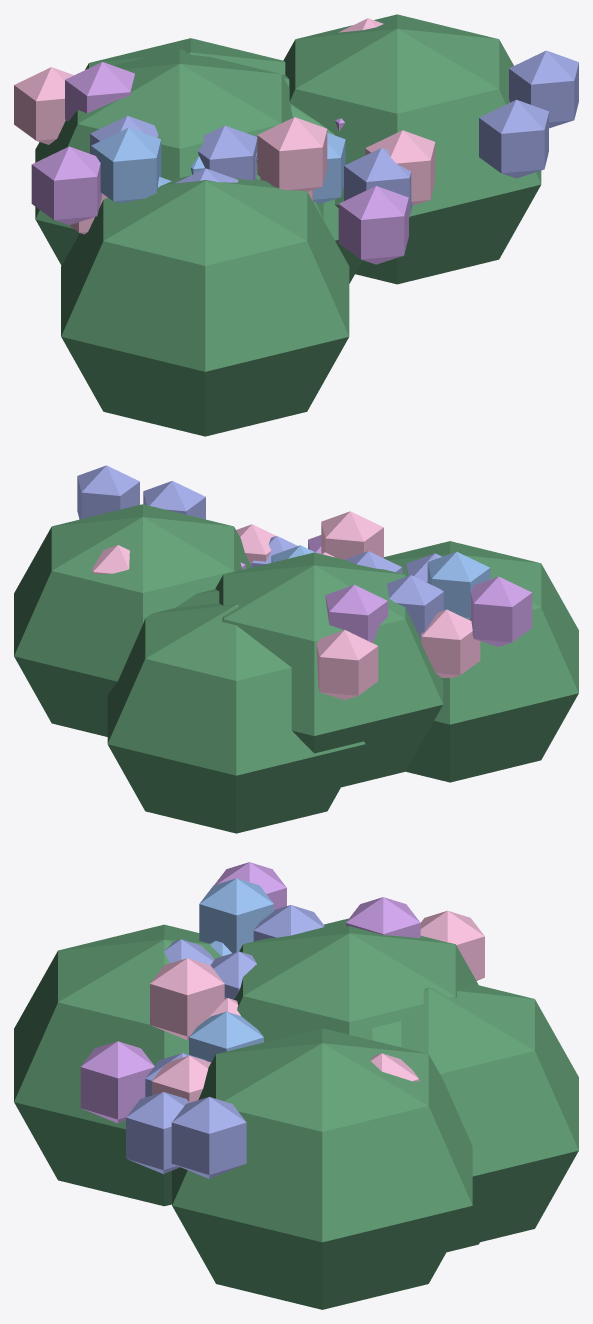
The model's file is hydrangea_bush.glb.
3 renders of one model, top to bottom at view 1: azimuth 30°, elevation 25°; view 2: azimuth 150°, elevation 25°; view 3: azimuth 270°, elevation 25°, orthographic. The views are drawn at different scales.
Parts seen in each view (by area): view 1: hydrangea_bush; view 2: hydrangea_bush; view 3: hydrangea_bush.
Part boxes in pixels (<box>): hydrangea_bush: <box>14,14,578,436</box>; hydrangea_bush: <box>14,465,578,833</box>; hydrangea_bush: <box>14,862,578,1309</box>.
Bounding box in the file's own units: 2.51 × 1.22 × 2.12.
